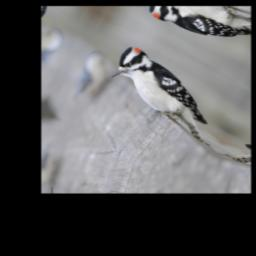Woodpecker: (97, 35, 238, 148)
